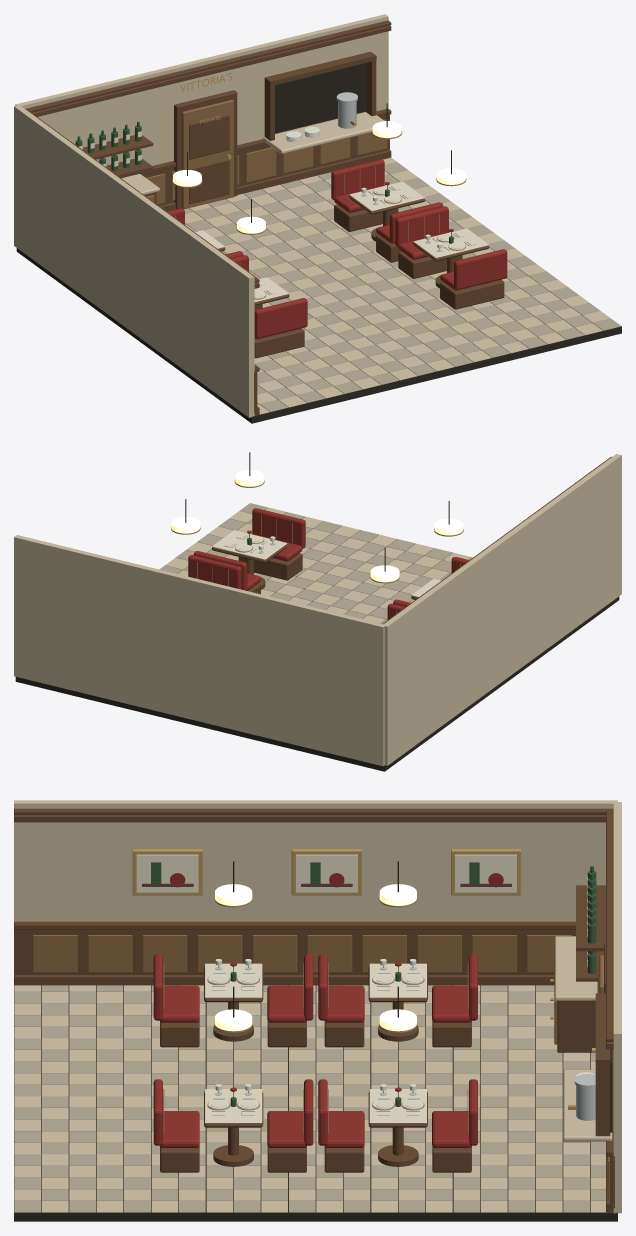
File: interior-restaurant.glb
The picture shows the model from 3 angles, top to bottom: view 1: azimuth 30°, elevation 25°; view 2: azimuth 150°, elevation 25°; view 3: azimuth 270°, elevation 25°; orthographic projection. The views are drawn at different scales.
Parts seen in each view (by area): view 1: left plaster, terrazzo tile.001, terrazzo tile, rear plaster, rear moulding, banquette cushion, table pedestal, rear panel inset, dining foundation, service hatch dark recess, tablecloth, pendant shade (+4 smaller); view 2: rear plaster, left plaster, terrazzo tile, terrazzo tile.001, banquette cushion, dining foundation, pendant shade, table pedestal, tablecloth; view 3: left plaster, terrazzo tile.001, terrazzo tile, left moulding, banquette cushion, side panel inset, table pedestal, dining foundation, rear moulding, tablecloth, rear plaster, picture canvas (+8 smaller).
Part boxes in pixels (x1,y1,x2,y2): left plaster: [14, 105, 254, 417]; terrazzo tile.001: [184, 162, 621, 411]; terrazzo tile: [185, 157, 610, 414]; rear plaster: [15, 14, 388, 194]; rear moulding: [25, 20, 391, 211]; banquette cushion: [167, 159, 507, 338]; table pedestal: [218, 195, 504, 358]; rear panel inset: [146, 99, 387, 209]; dining foundation: [16, 103, 621, 423]; service hatch dark recess: [275, 63, 366, 133]; tablecloth: [195, 181, 488, 302]; pendant shade: [173, 121, 465, 233]; rear plaster: [14, 535, 385, 766]; left plaster: [382, 454, 621, 765]; terrazzo tile: [165, 507, 470, 623]; terrazzo tile.001: [159, 503, 472, 623]; banquette cushion: [188, 508, 469, 619]; dining foundation: [15, 452, 619, 771]; pendant shade: [171, 470, 463, 582]; table pedestal: [212, 544, 418, 599]; tablecloth: [212, 530, 440, 597]; left plaster: [14, 800, 617, 921]; terrazzo tile.001: [14, 985, 605, 1212]; terrazzo tile: [14, 985, 613, 1212]; left moulding: [14, 808, 613, 985]; banquette cushion: [153, 954, 477, 1147]; side panel inset: [32, 935, 571, 972]; table pedestal: [160, 966, 471, 1172]; dining foundation: [14, 861, 617, 1221]; rear moulding: [557, 808, 614, 1212]; tablecloth: [204, 963, 426, 1123]; rear plaster: [555, 802, 621, 1213]; picture canvas: [136, 854, 516, 892].
Size of the model in its own units: 10.08 by 3.77 by 11.08.
